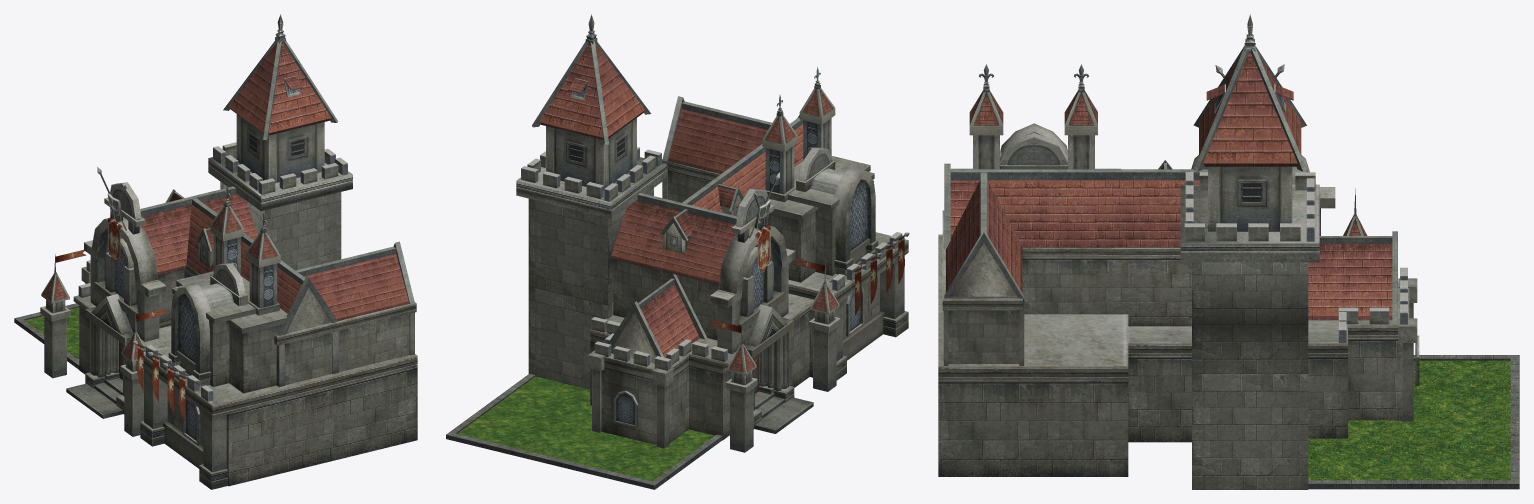
The model's file is SC_guowangchengbao_05.FBX.
3 renders of one model, left to right at view 1: azimuth 30°, elevation 25°; view 2: azimuth 150°, elevation 25°; view 3: azimuth 270°, elevation 25°, orthographic. The views are drawn at different scales.
Parts seen in each view (by area): view 1: SC_guowangchengbao_05; view 2: SC_guowangchengbao_05; view 3: SC_guowangchengbao_05.
Boxes of the visible parts, <box> form: SC_guowangchengbao_05: <box>14,14,417,489</box>; SC_guowangchengbao_05: <box>446,14,909,489</box>; SC_guowangchengbao_05: <box>938,14,1519,489</box>.
Size of the model in its own units: 1316 by 1712 by 1999.
